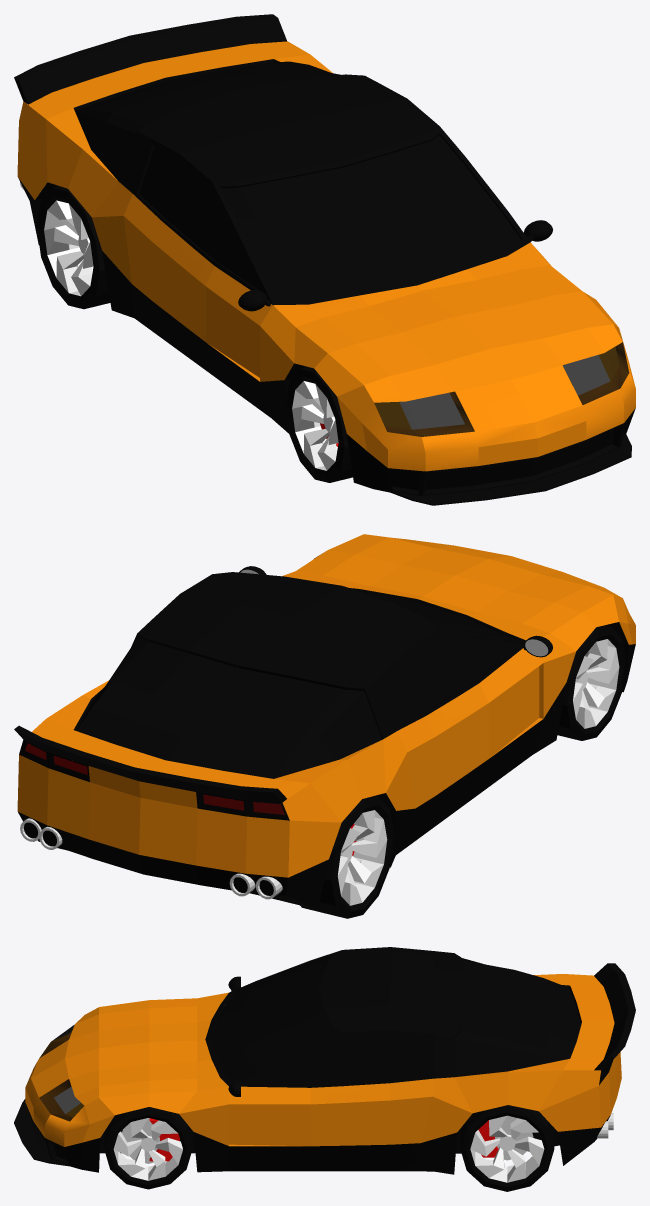
Rendered from car.glb.
3 renders of one model, top to bottom at view 1: azimuth 30°, elevation 25°; view 2: azimuth 150°, elevation 25°; view 3: azimuth 270°, elevation 25°, orthographic. The views are drawn at different scales.
Parts seen in each view (by area): view 1: Muscle car 2.Body, 5.Wheel.Bk.R, 5.Wheel.Ft.R; view 2: Muscle car 2.Body, 5.Wheel.Bk.R, 5.Wheel.Ft.R; view 3: Muscle car 2.Body, 5.Wheel.Bk.L, 5.Wheel.Ft.L.
Boxes of the visible parts, x1,y1,x2,y2 form: Muscle car 2.Body: (14, 14, 635, 505); 5.Wheel.Bk.R: (37, 186, 110, 309); 5.Wheel.Ft.R: (285, 367, 352, 482); Muscle car 2.Body: (14, 534, 635, 909); 5.Wheel.Bk.R: (300, 796, 394, 918); 5.Wheel.Ft.R: (557, 625, 625, 740); Muscle car 2.Body: (14, 947, 635, 1174); 5.Wheel.Bk.L: (460, 1105, 554, 1191); 5.Wheel.Ft.L: (104, 1107, 192, 1189).
Bounding box in the file's own units: 135 × 85.04 × 313.
